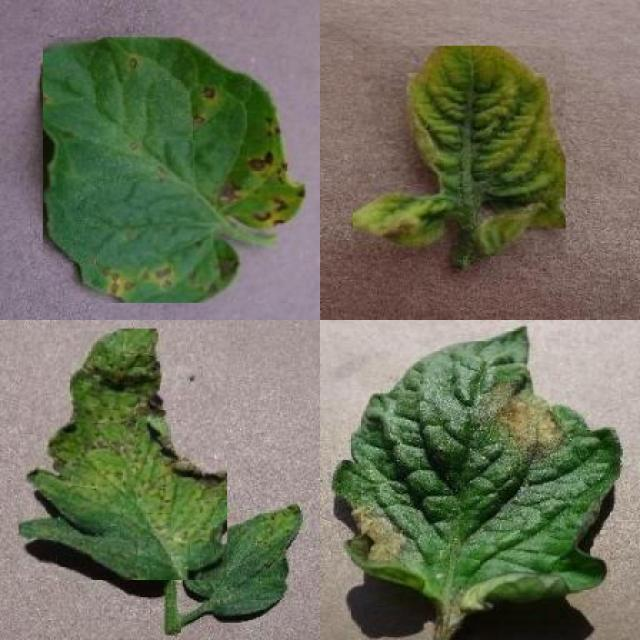Late Blight: (331, 323, 623, 614)
Septoria: (43, 38, 306, 302), (19, 328, 227, 580)
Yellow Leaf Curl Virus: (353, 46, 566, 256)
